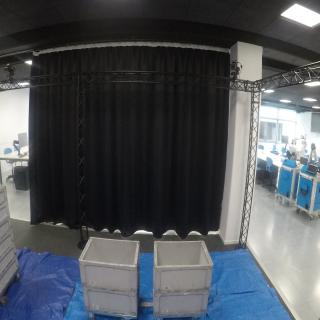Box4G: (80, 236, 141, 295), (153, 240, 215, 296), (85, 287, 142, 319), (152, 291, 213, 317)
